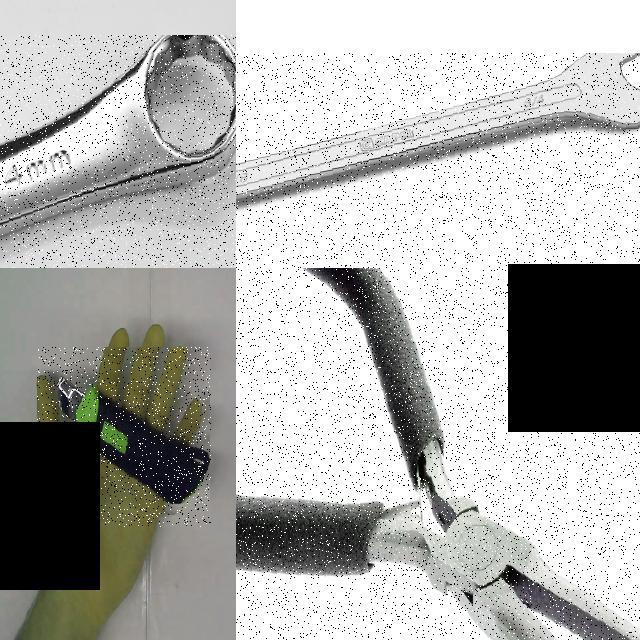estilete: (60, 381, 210, 503)
